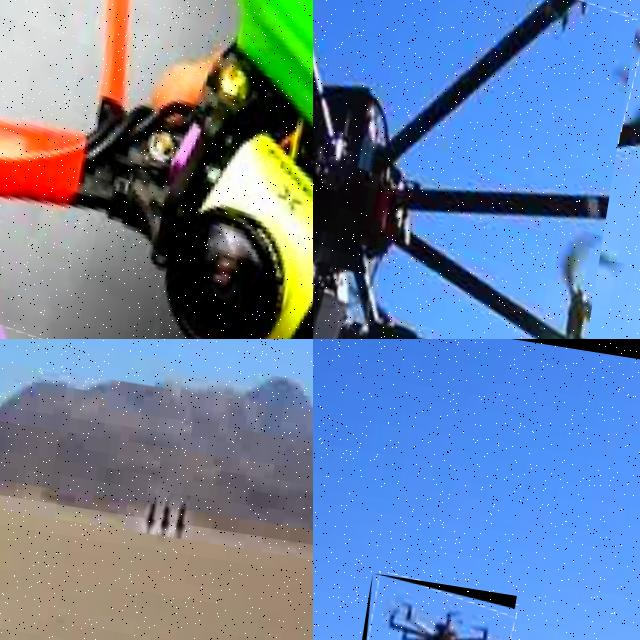0: (313, 0, 640, 339), (352, 573, 517, 640)
drone: (0, 0, 313, 339)
